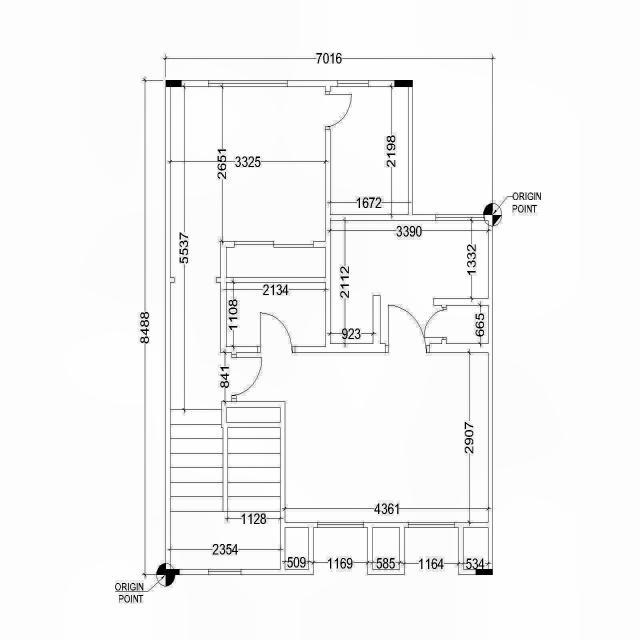Column: (394, 80, 412, 87), (166, 80, 182, 87), (475, 569, 493, 575), (166, 569, 180, 575)
Door: (385, 304, 430, 354), (258, 312, 296, 354), (232, 354, 262, 399), (326, 92, 352, 130), (424, 307, 446, 340)
Sliding Door: (234, 241, 314, 248)
Staircase: (171, 402, 285, 569)
Window: (208, 80, 288, 87), (435, 214, 485, 221), (408, 522, 455, 528), (317, 522, 364, 528), (338, 80, 368, 87), (208, 569, 241, 575)
